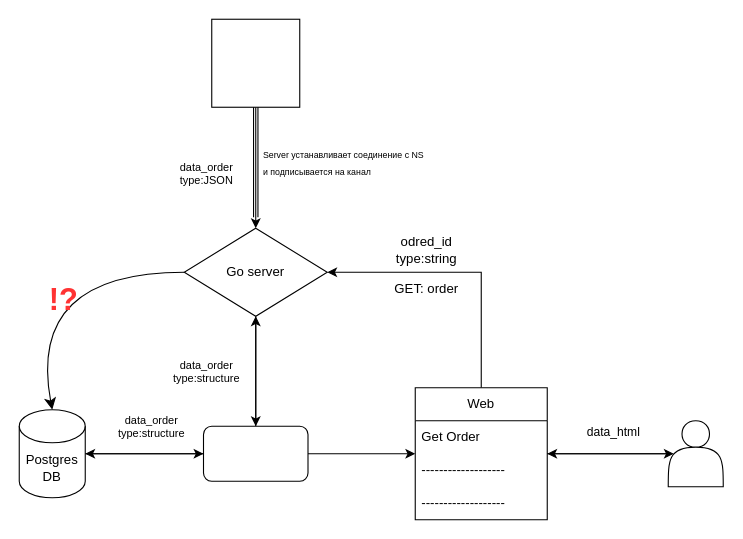
This 743x539 diagram has some shape labels left out. Here are the shapes that lost their labels. From the top down, the centre of each, then its label:
point (255, 62): Nats Striming
point (255, 453): КЭШ
